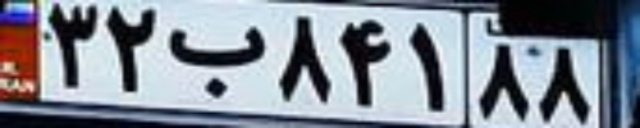1: (405, 21, 445, 112)
2: (104, 6, 160, 92)
3: (43, 0, 98, 88)
4: (336, 19, 390, 106)
8: (277, 15, 332, 103), (538, 47, 592, 123), (476, 43, 528, 120)
be: (167, 23, 265, 99)
